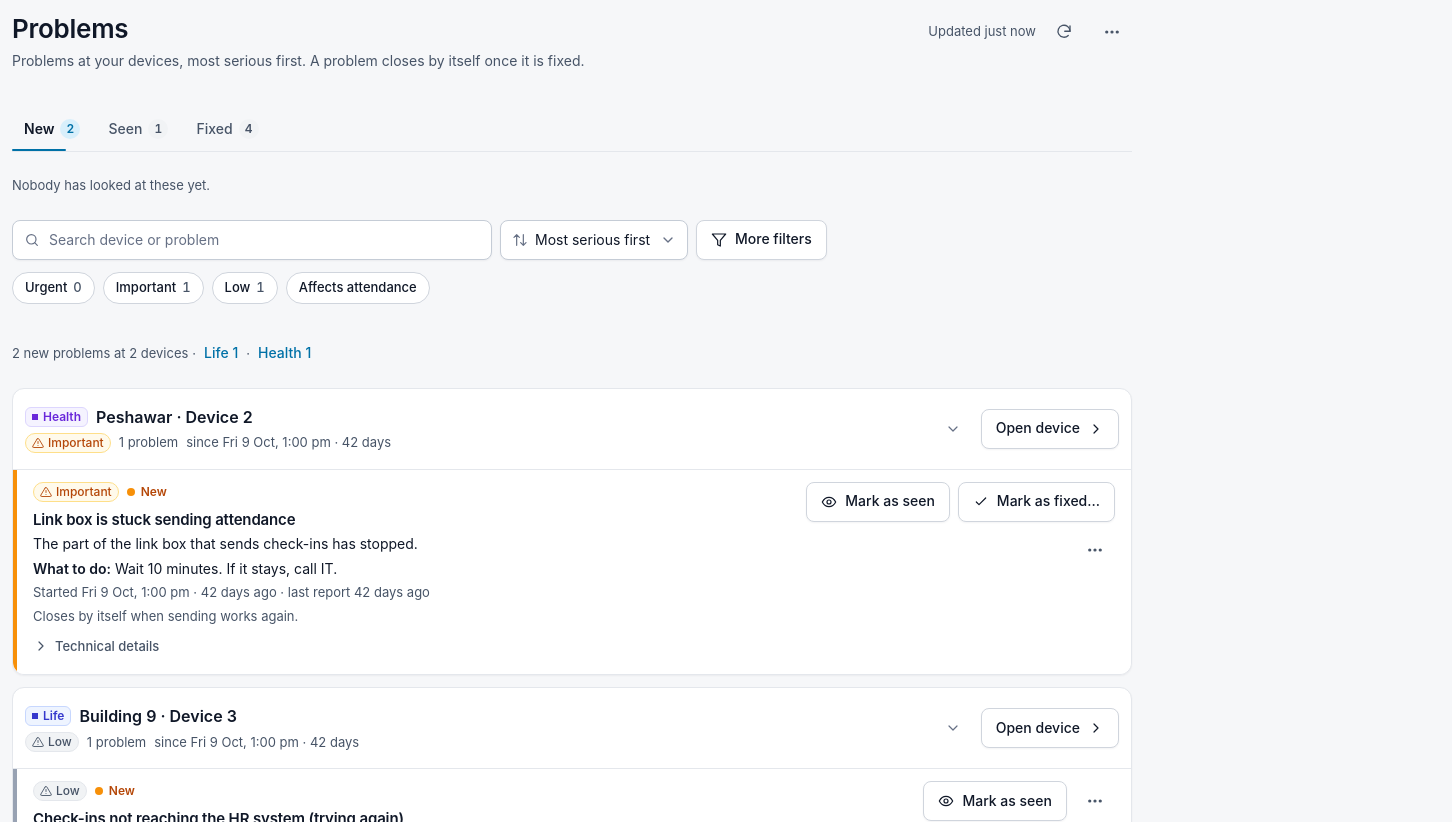
Test case: Problems page › marks one problem as seen: only that button is busy, the card leaves New and counts tick
Later steps or results of the test are not shown.
Click the button "Mark as seen" in the row of "Link box is stuck sending attendance" at coordinates (878, 502), box [806,482,950,522]
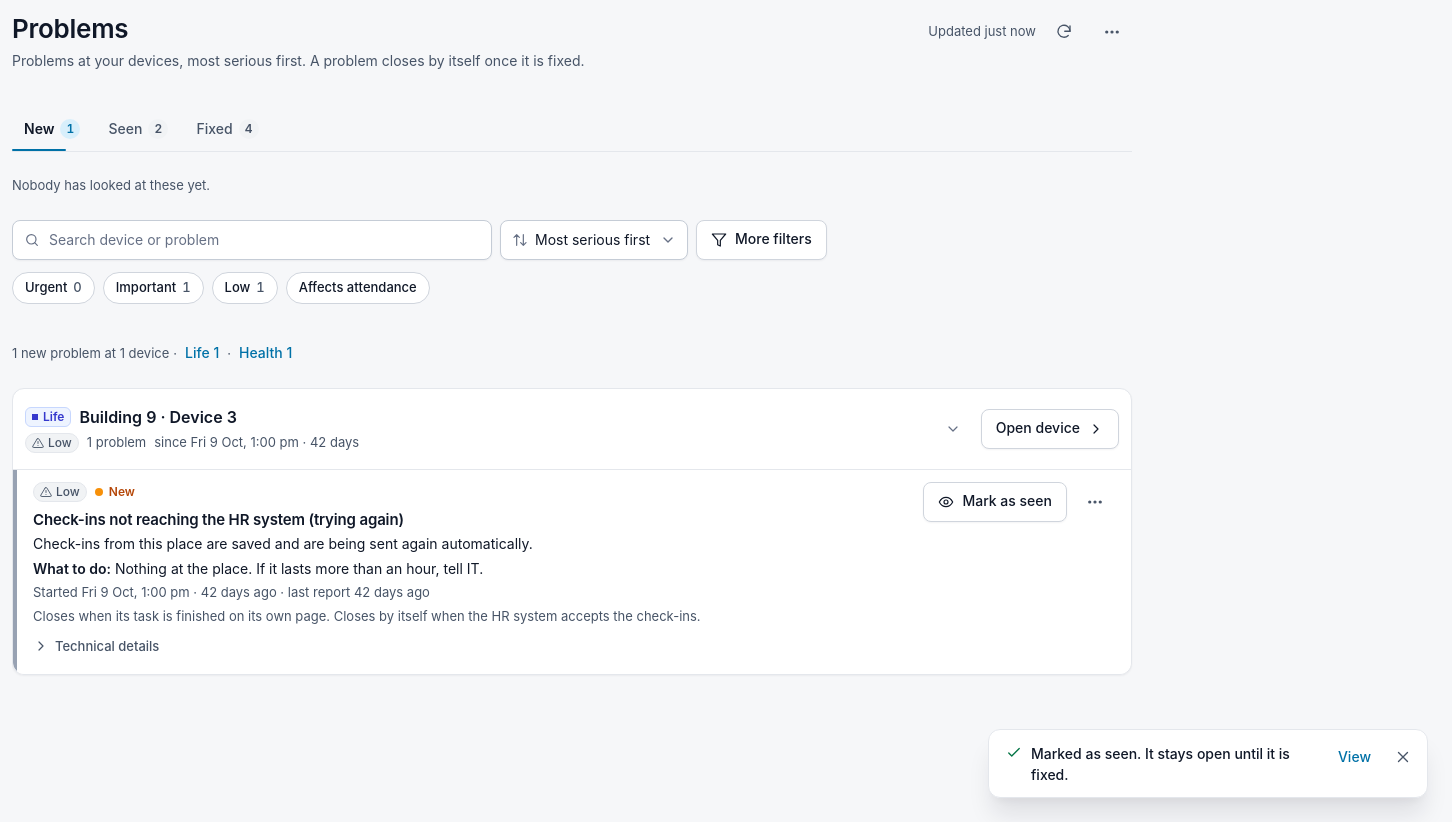
Expected: the text "Marked as seen. It stays open until it is fixed." is shown, [1031,742,1326,785]
Expected: the heading "Link box is stuck sending attendance" is gone
Expected: the tab "New 1" is shown, [12,107,92,151]
